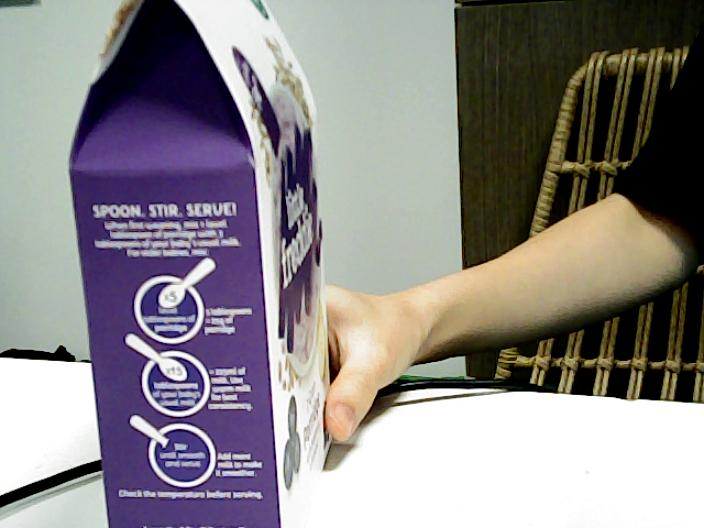Babyfood_100-199g_NonHalal_NonHealthy: (89, 51, 317, 504)
